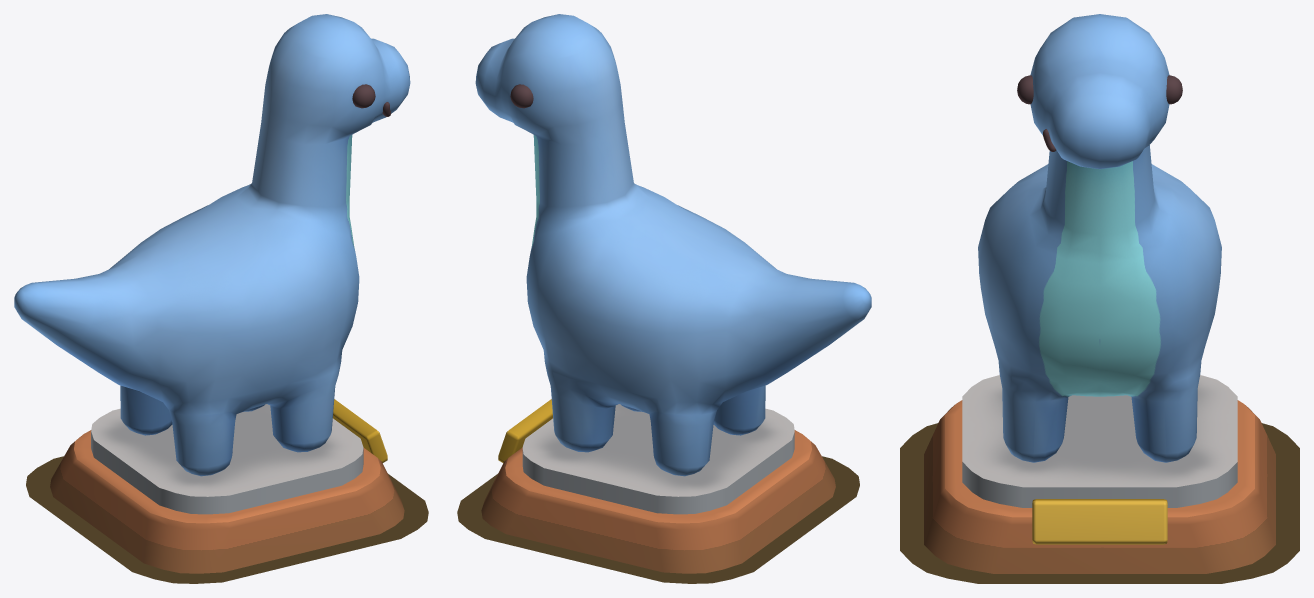
Rendered from Mu_DinoSculpture.fbx.
3 renders of one model, left to right at view 1: azimuth 30°, elevation 25°; view 2: azimuth 150°, elevation 25°; view 3: azimuth 270°, elevation 25°, orthographic. The views are drawn at different scales.
Parts seen in each view (by area): view 1: Mu_DinoSculpture_a, Mu_DinoSculpture_b, Mu_DinoSculpture_shadow; view 2: Mu_DinoSculpture_a, Mu_DinoSculpture_b, Mu_DinoSculpture_shadow; view 3: Mu_DinoSculpture_a, Mu_DinoSculpture_b, Mu_DinoSculpture_shadow.
Part boxes in pixels (x1,y1,x2,y2): Mu_DinoSculpture_a: (14,14,410,476); Mu_DinoSculpture_b: (50,399,404,573); Mu_DinoSculpture_shadow: (26,456,428,583); Mu_DinoSculpture_a: (475,14,871,476); Mu_DinoSculpture_b: (481,399,835,573); Mu_DinoSculpture_shadow: (457,456,859,583); Mu_DinoSculpture_a: (978,14,1221,462); Mu_DinoSculpture_b: (924,375,1275,573); Mu_DinoSculpture_shadow: (900,423,1299,583).
Size of the model in its own units: 272 by 304 by 205.
Materials: 2 (1 with a texture image).
